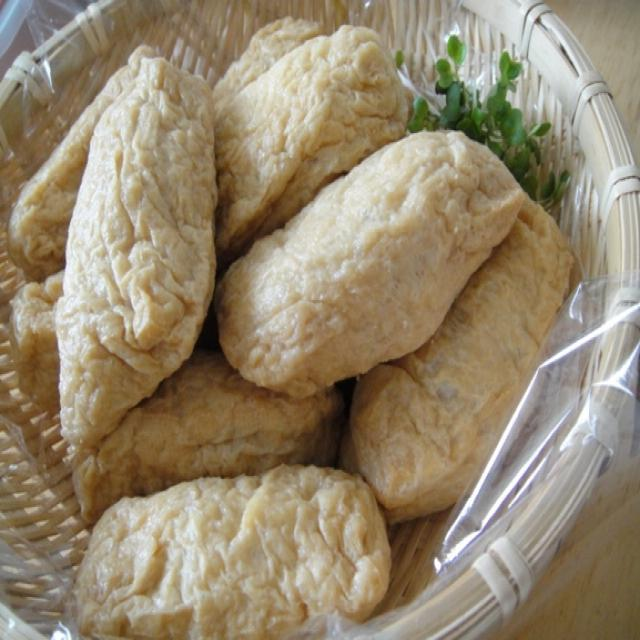寿司卷物: (38, 23, 591, 610)
